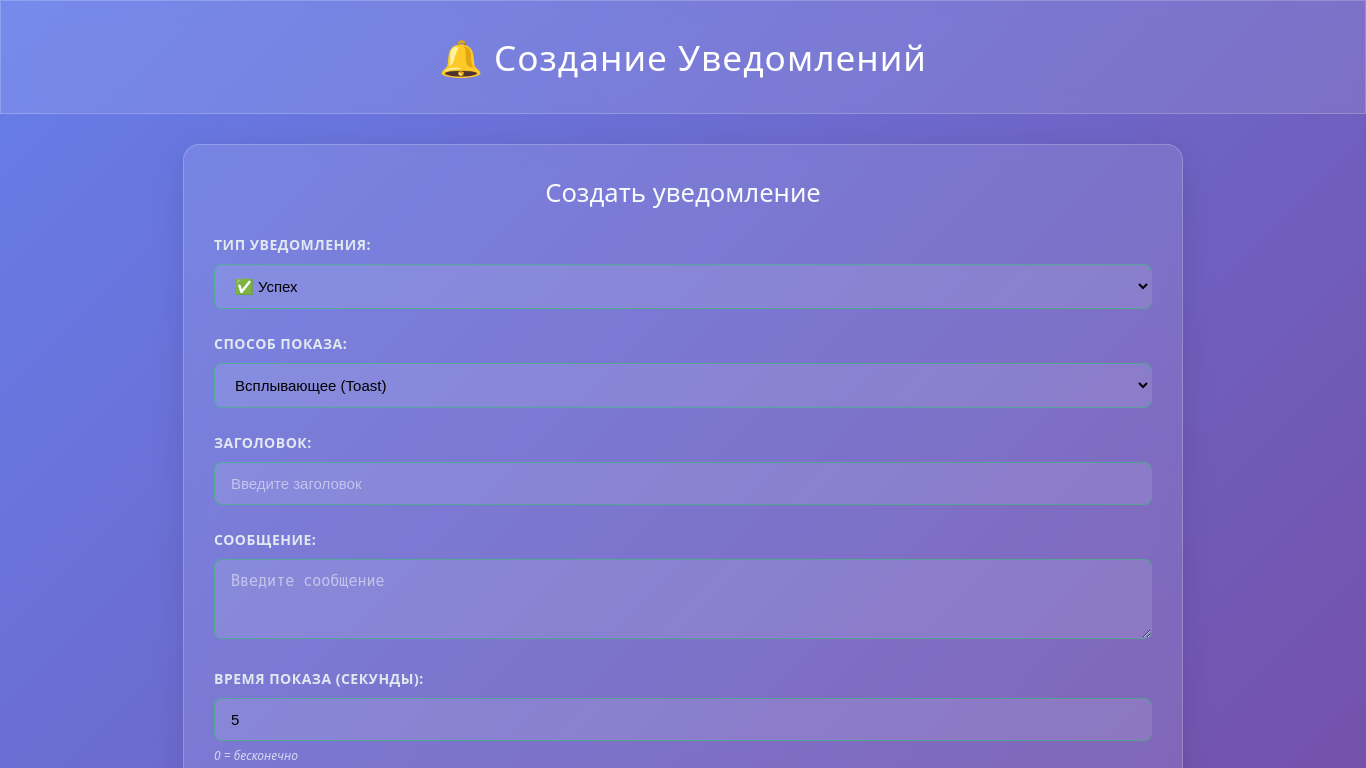
Система Уведомлений - E2E Тесты › Модальные уведомления › должен закрывать модальное окно по крестику
Select "Модальное окно" in the dropdown with test id "channel-select" at (683, 386), box [214, 363, 1152, 408]
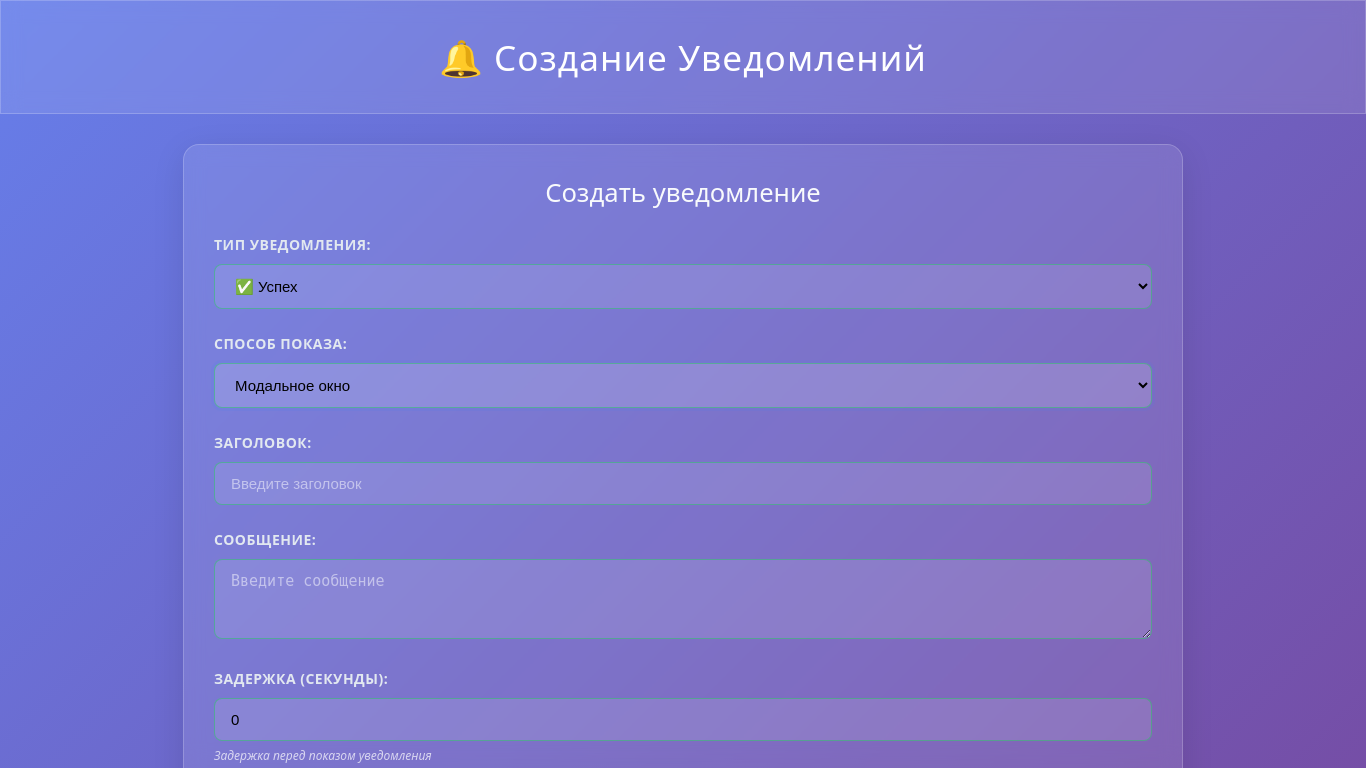
Select "✅ Успех" in the dropdown with test id "type-select" at (683, 287), box [214, 264, 1152, 309]
Type "Тест закрытия" into the field with test id "title-input" at (683, 484), box [214, 462, 1152, 505]
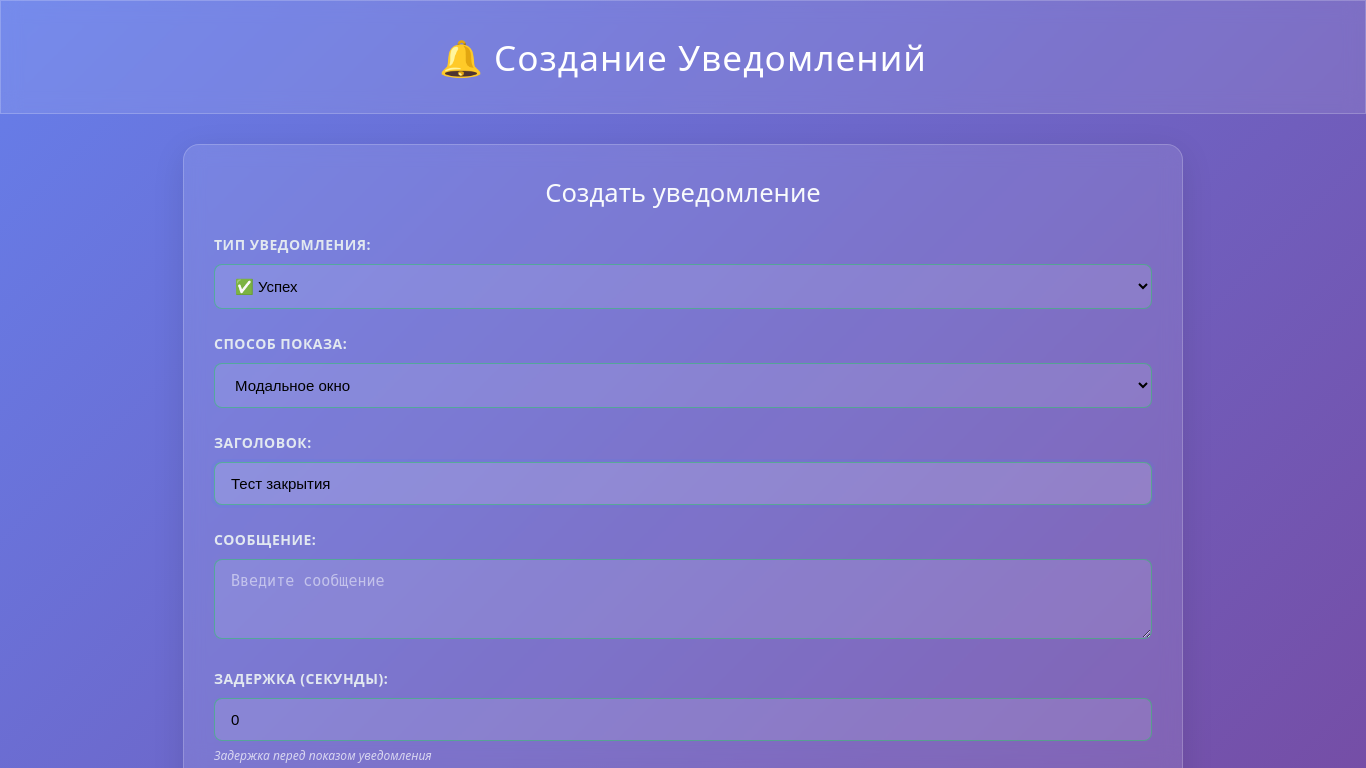
Type "Закройте это окно" into the text box with test id "message-textarea" at (683, 599), box [214, 559, 1152, 639]
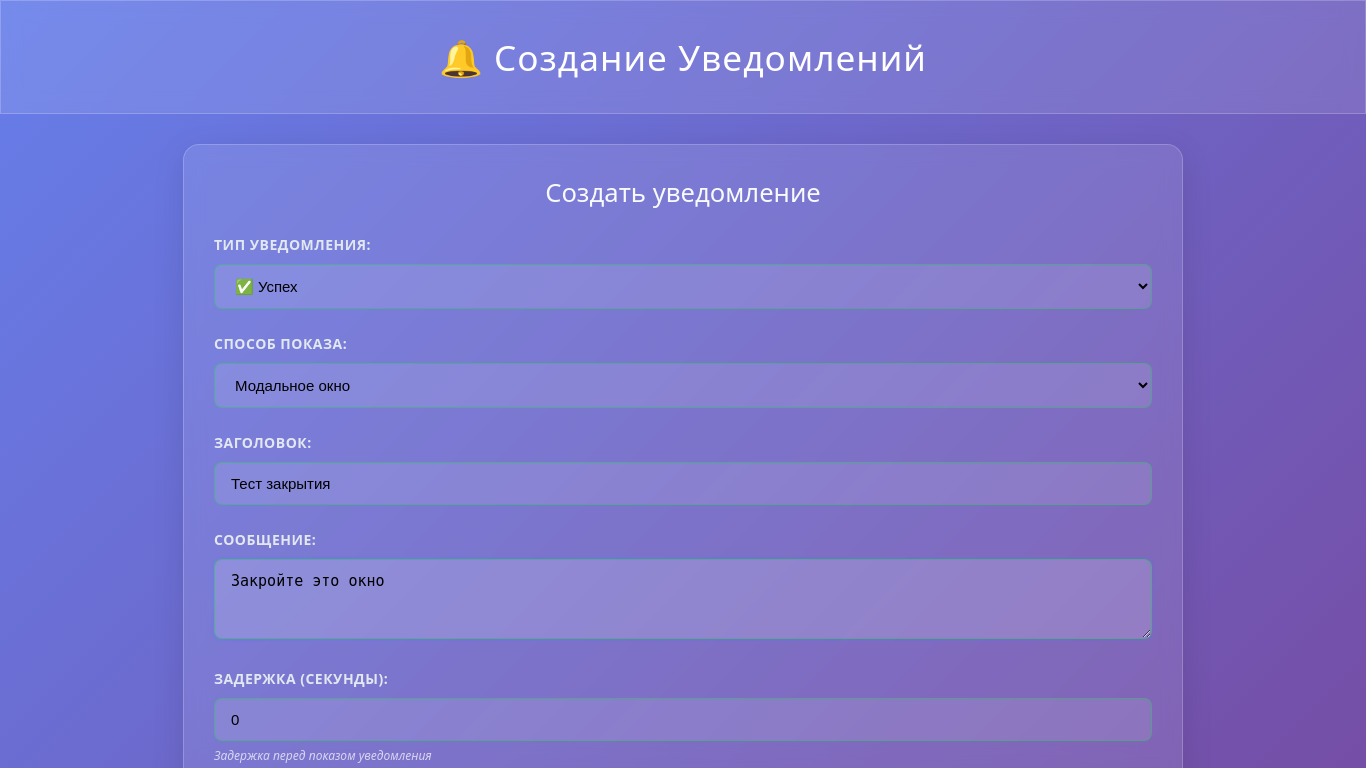
Scroll
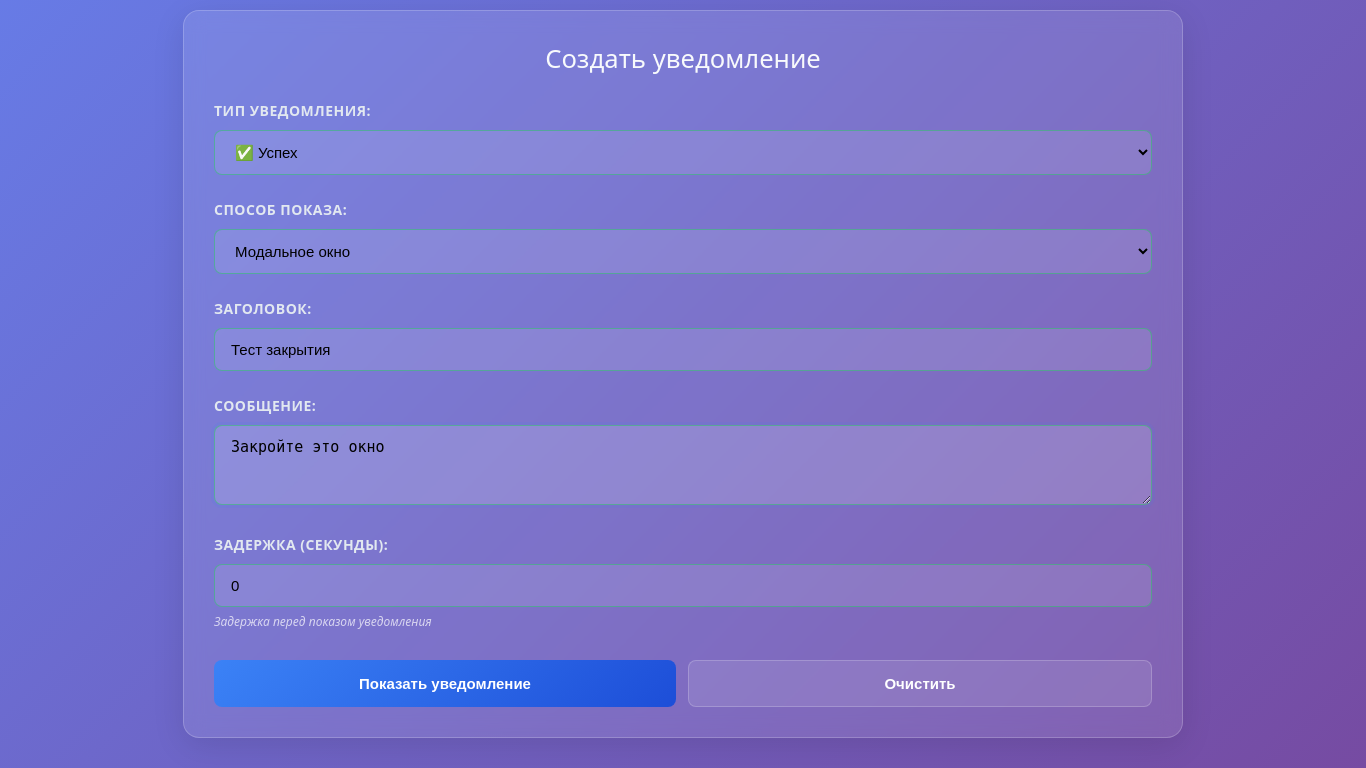
Click the button with test id "submit-button" at (445, 684), box [214, 660, 676, 707]
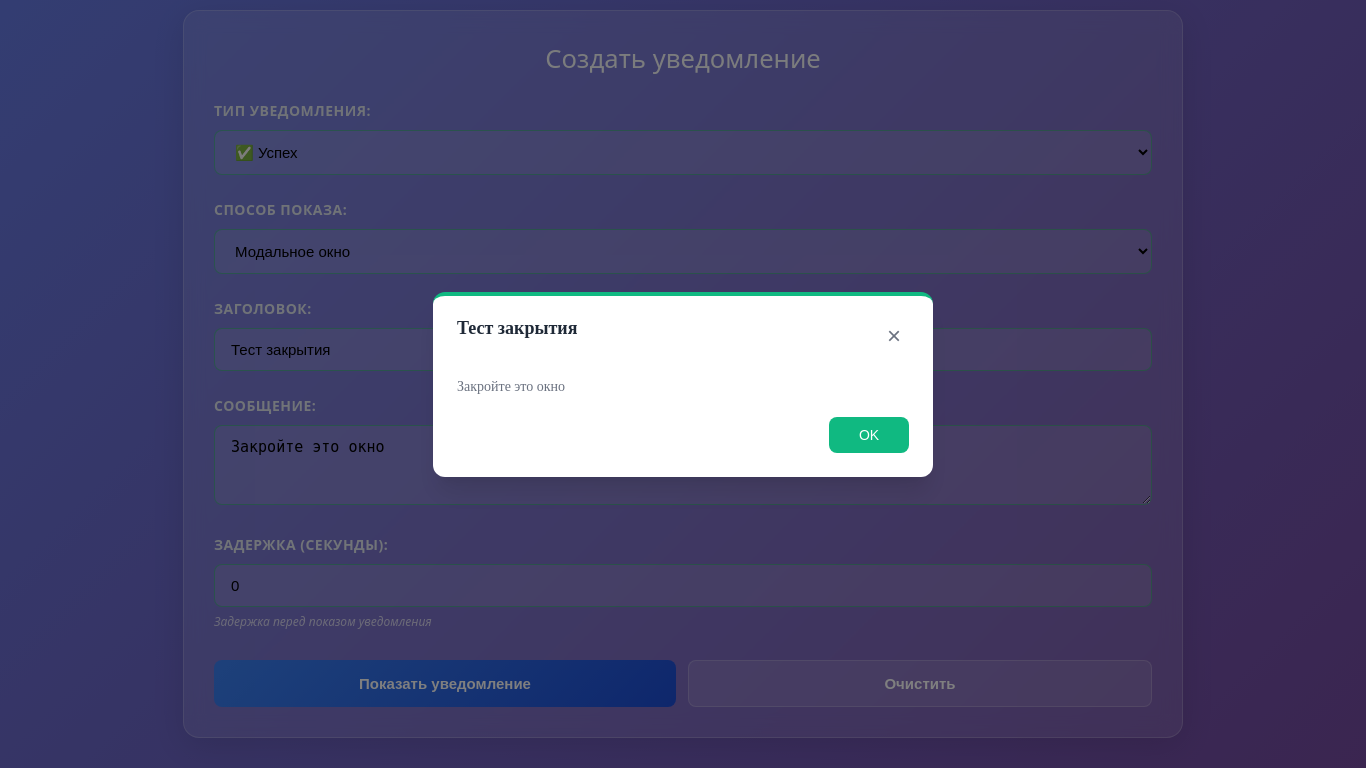
expect the element with test id "modal-content" is shown: met, box [433, 292, 933, 477]
Click the button with test id "close-modal-button" at (894, 336), box [879, 316, 909, 356]
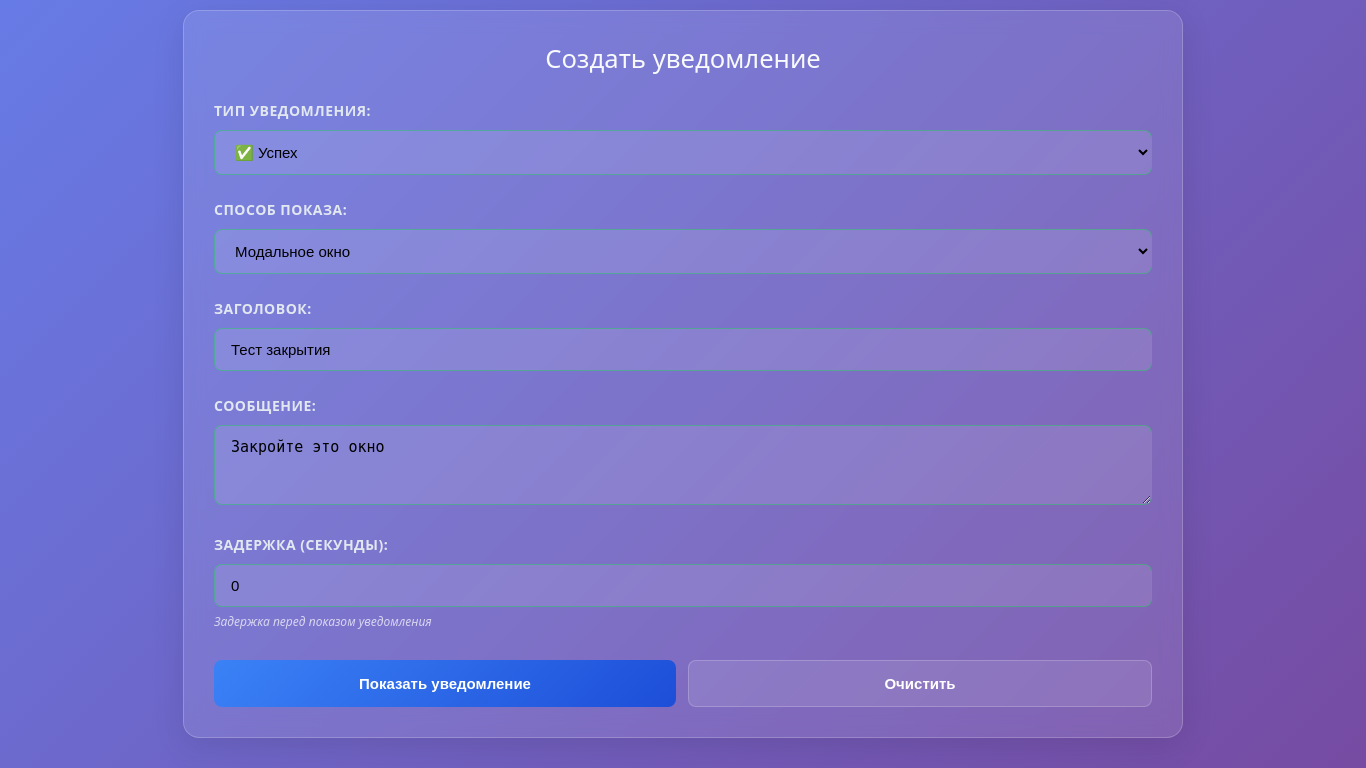
expect the element with test id "modal-content" is gone: met
